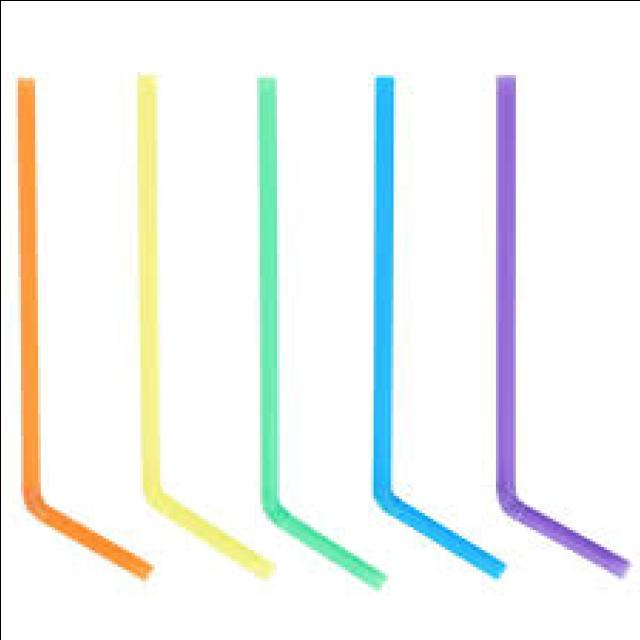straw: (372, 76, 501, 578), (140, 76, 268, 578), (20, 78, 146, 578), (498, 77, 623, 576), (258, 78, 379, 589)
